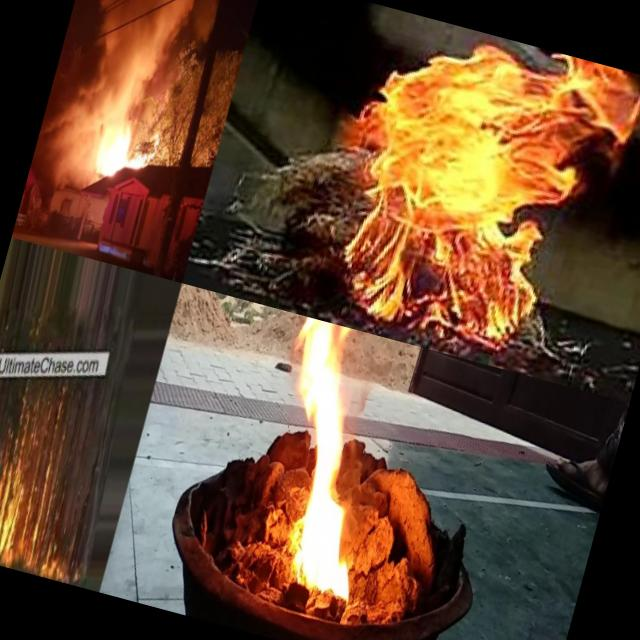fire: (303, 6, 640, 374), (228, 314, 411, 601), (86, 108, 162, 197), (0, 451, 40, 565), (19, 517, 80, 583)
smoke: (65, 0, 205, 121), (27, 91, 106, 191)
